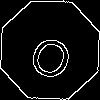O: (25, 25, 80, 83)
